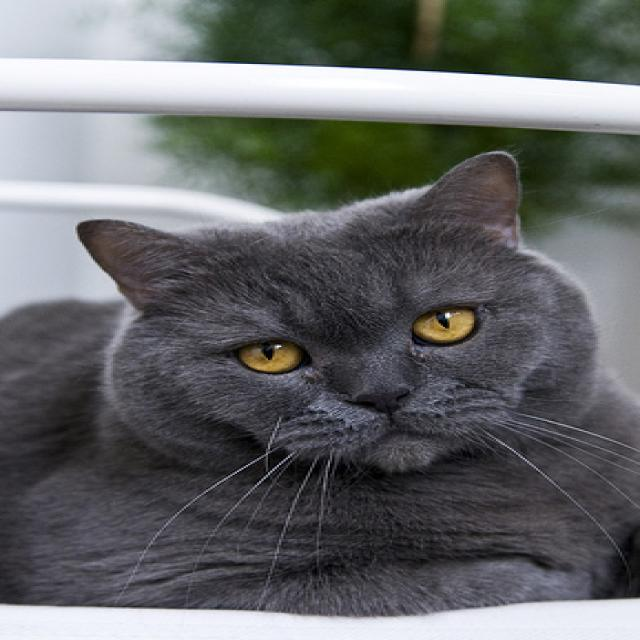British Shorthair: (0, 146, 640, 622)
